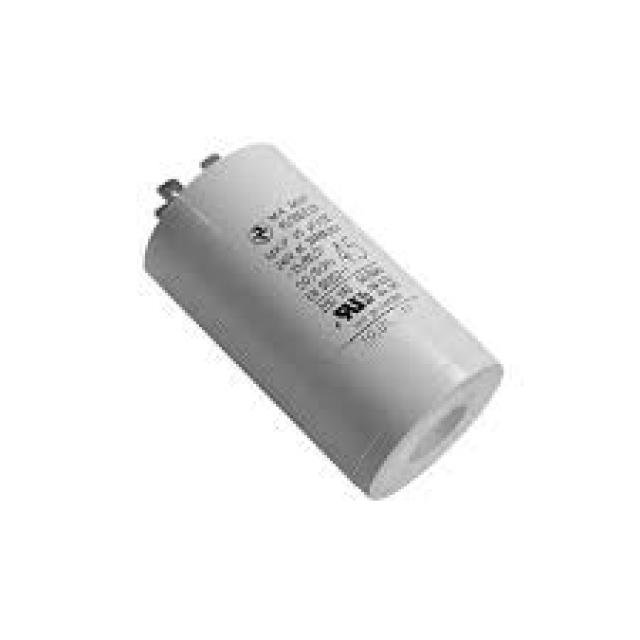Resistor: (142, 142, 506, 501)
